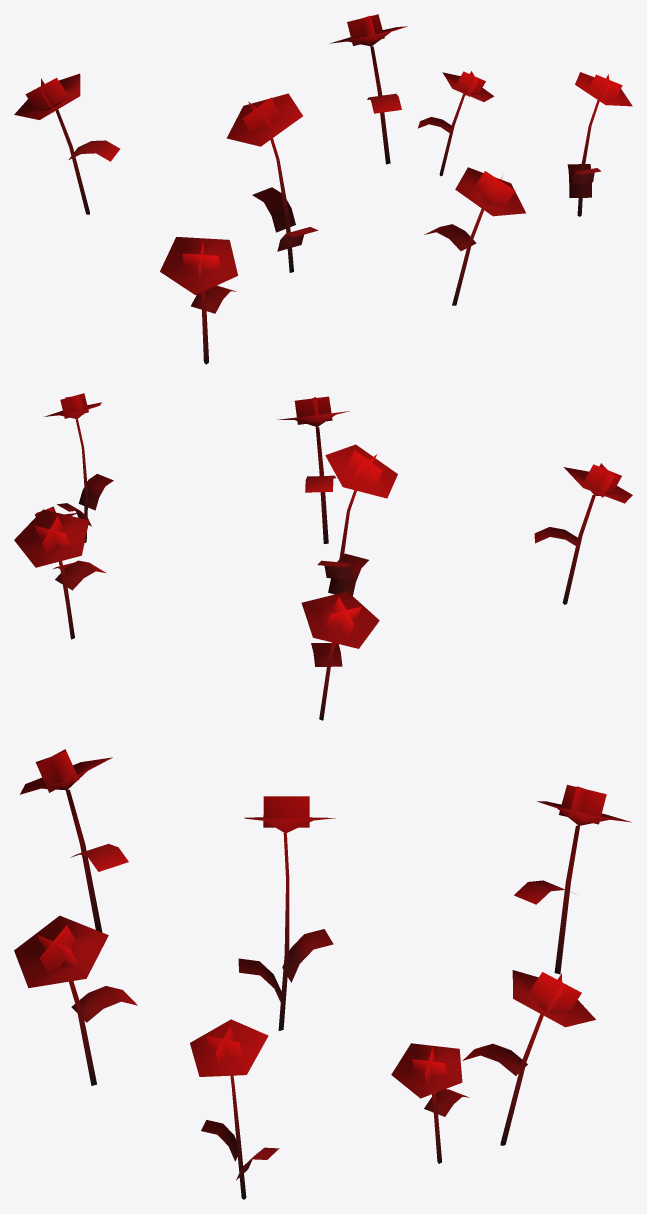
File: SM_Flower5_Group.fbx
3 views of the same model, one above another, from view 1: azimuth 30°, elevation 25°; view 2: azimuth 150°, elevation 25°; view 3: azimuth 270°, elevation 25° (orthographic). The views are drawn at different scales.
Visible parts, largest first — view 1: Flower5 Group; view 2: Flower5 Group; view 3: Flower5 Group.
Boxes of the visible parts, left/top/right/bottom form: Flower5 Group: left=14, top=14, right=632, bottom=364; Flower5 Group: left=14, top=393, right=632, bottom=720; Flower5 Group: left=14, top=749, right=631, bottom=1199.
Size of the model in its own units: 1.13 by 0.3693 by 0.9182.
